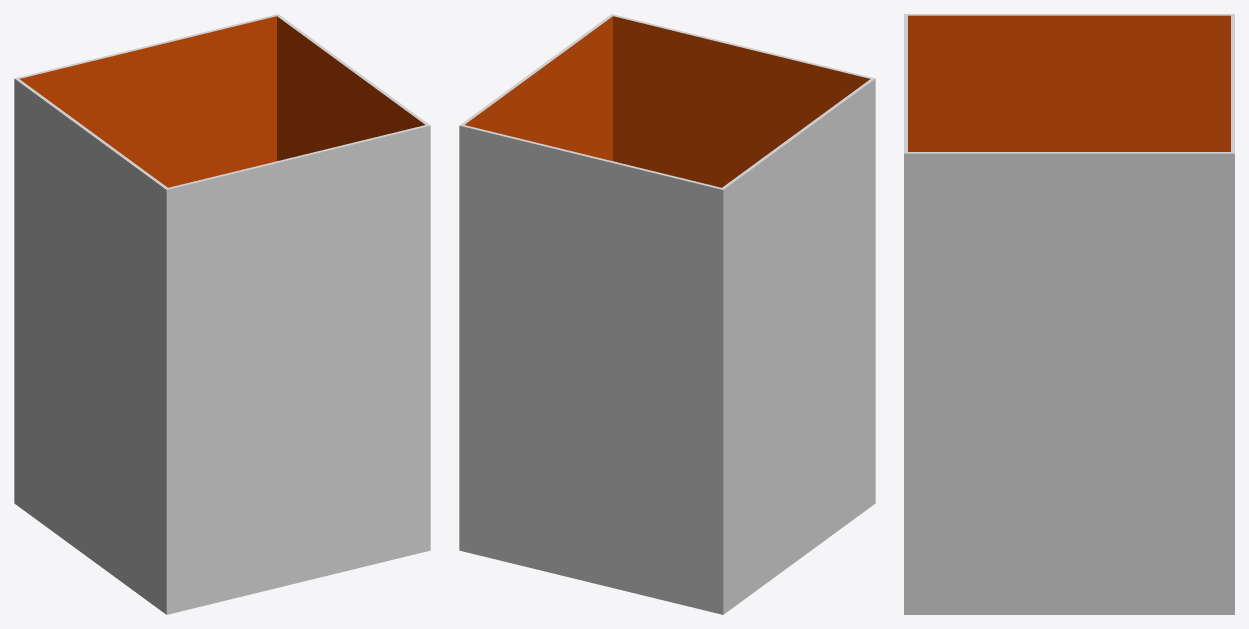
The model's file is Paper Lantern Wires.fbx.
3 renders of one model, left to right at view 1: azimuth 30°, elevation 25°; view 2: azimuth 150°, elevation 25°; view 3: azimuth 270°, elevation 25°, orthographic. The views are drawn at different scales.
Visible parts, largest first — view 1: Plane; view 2: Plane; view 3: Plane.
Part boxes in pixels (x1,y1,x2,y2): Plane: (14,14,430,614); Plane: (459,14,875,614); Plane: (904,14,1234,614).
Bounding box in the file's own units: 200 × 308 × 200.
